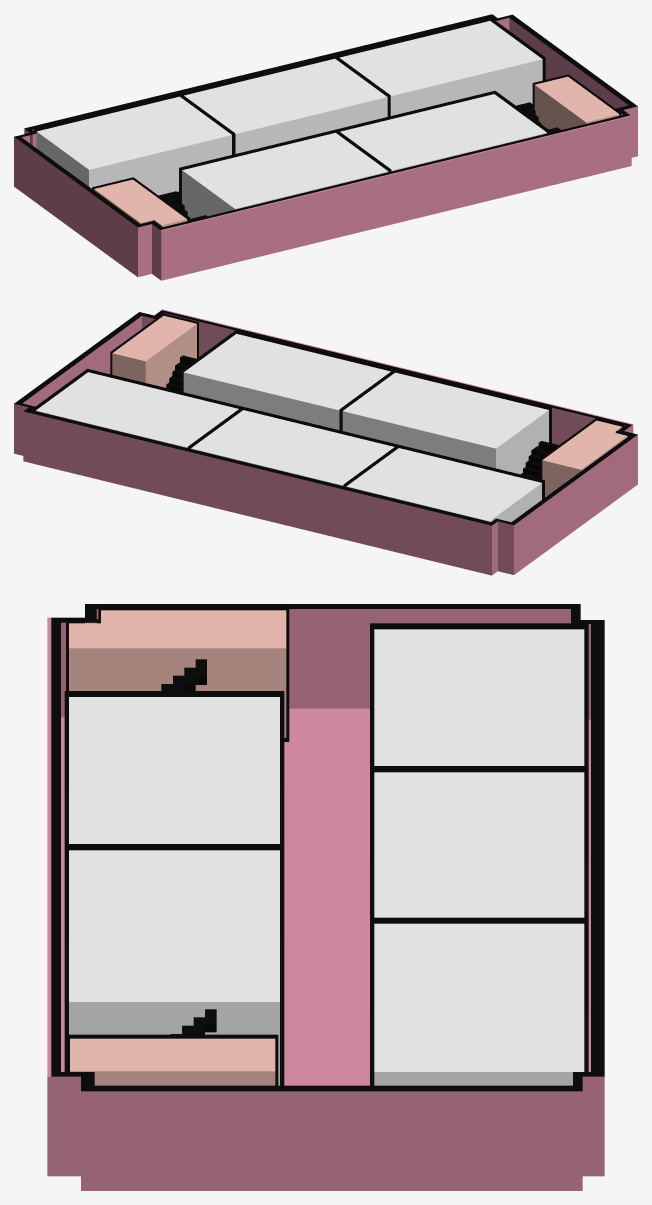
3 views of the same model, one above another, from view 1: azimuth 30°, elevation 25°; view 2: azimuth 150°, elevation 25°; view 3: azimuth 270°, elevation 25° (orthographic). The views are drawn at different scales.
Parts seen in each view (by area): view 1: object, room_7_2_3, room_7_2_1, room_7_2_2, room_7_2_5, room_7_2_4, トイレ_7_2_1, トイレ_7_2_2, object_line.004, object_line.003, object_line.002, object_line.001 (+1 smaller); view 2: object, room_7_2_5, room_7_2_4, room_7_2_3, room_7_2_2, room_7_2_1, トイレ_7_2_1, トイレ_7_2_2, object_line.004, object_line.005, object_line.001, object_line.002 (+4 smaller); view 3: object, room_7_2_4, room_7_2_1, room_7_2_5, room_7_2_2, room_7_2_3, トイレ_7_2_2, トイレ_7_2_1, object_line.005, object_line.003, object_line.002, object_line.001 (+4 smaller).
Part boxes in pixels (x1,y1,x2,y2): object: (14, 14, 637, 280); room_7_2_3: (36, 96, 231, 195); room_7_2_1: (339, 21, 542, 115); room_7_2_2: (184, 58, 387, 153); room_7_2_5: (182, 133, 388, 218); room_7_2_4: (340, 94, 546, 171); トイレ_7_2_1: (534, 76, 619, 129); トイレ_7_2_2: (94, 179, 187, 226); object_line.004: (179, 129, 391, 199); object_line.003: (335, 17, 545, 80); object_line.002: (180, 55, 390, 116); object_line.001: (33, 93, 235, 192); object: (14, 309, 637, 575); room_7_2_5: (342, 372, 548, 474); room_7_2_4: (183, 334, 390, 429); room_7_2_3: (346, 448, 541, 522); room_7_2_2: (191, 410, 394, 485); room_7_2_1: (35, 372, 238, 447); トイレ_7_2_1: (112, 315, 196, 387); トイレ_7_2_2: (542, 420, 627, 497); object_line.004: (339, 369, 551, 473); object_line.005: (180, 330, 394, 391); object_line.001: (343, 444, 544, 499); object_line.002: (187, 406, 397, 448); object: (47, 604, 604, 1190); room_7_2_4: (69, 850, 279, 1085); room_7_2_1: (374, 923, 584, 1085); room_7_2_5: (69, 697, 279, 843); room_7_2_2: (374, 772, 584, 917); room_7_2_3: (374, 629, 584, 765); トイレ_7_2_2: (69, 610, 286, 737); トイレ_7_2_1: (70, 1038, 275, 1085); object_line.005: (64, 844, 284, 1085); object_line.003: (370, 917, 588, 1085); object_line.002: (370, 766, 588, 1013); object_line.001: (370, 623, 588, 765).
Size of the model in its own units: 1.98 by 0.1943 by 0.9556.
